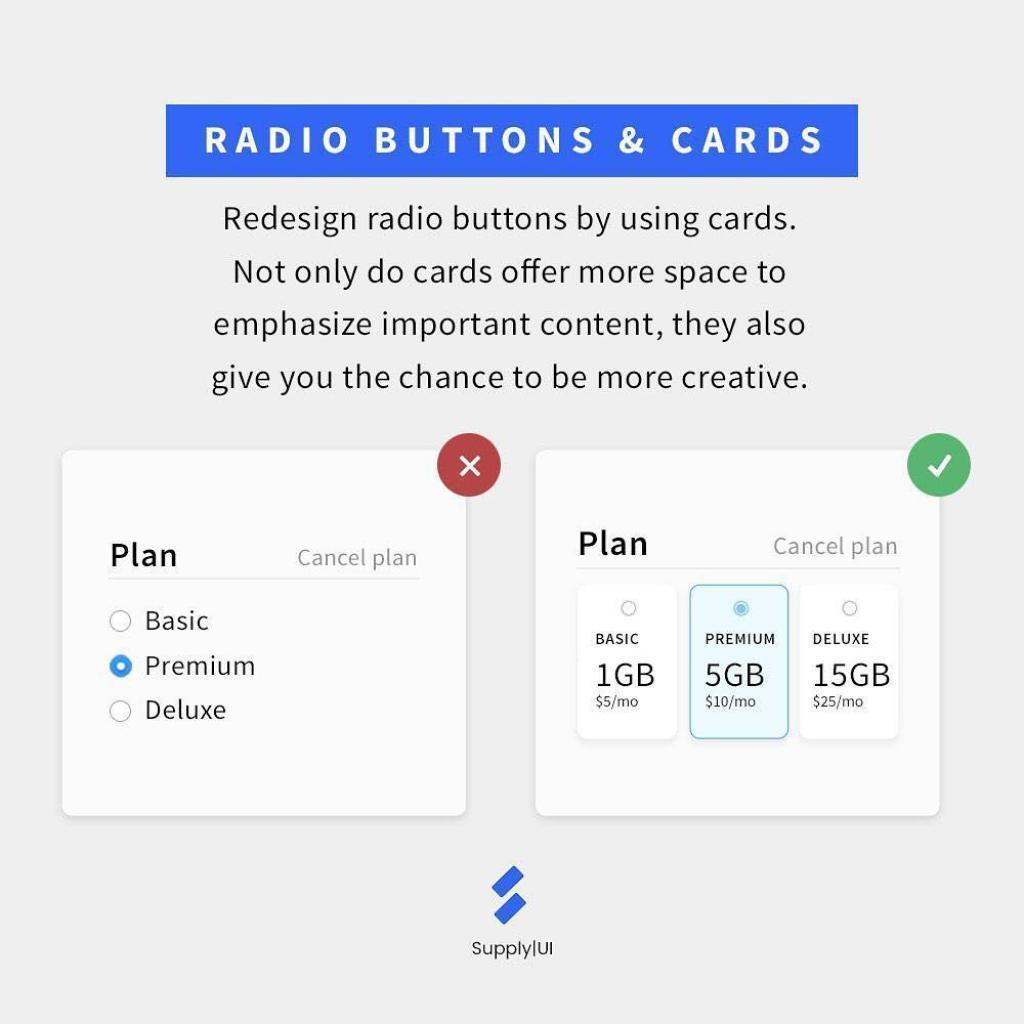checkbox: (103, 597, 139, 643), (100, 651, 145, 685), (103, 699, 147, 731), (829, 597, 868, 620), (612, 597, 647, 621), (729, 599, 760, 623)
